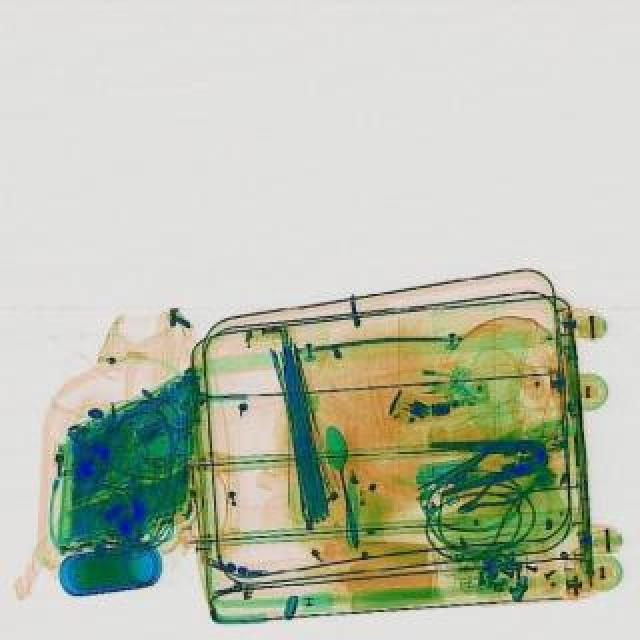wrench: (426, 428, 550, 496), (448, 450, 552, 524)
